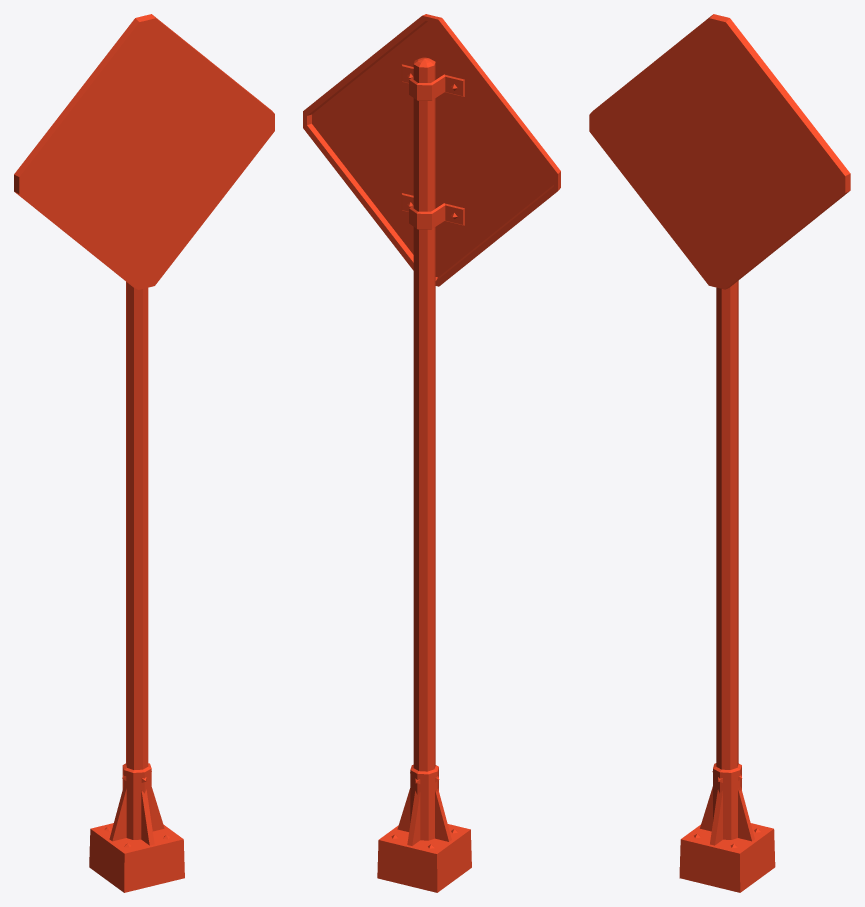
The model's file is SM_Sign_Deer_B_City.fbx.
3 renders of one model, left to right at view 1: azimuth 30°, elevation 25°; view 2: azimuth 150°, elevation 25°; view 3: azimuth 330°, elevation 25°, orthographic.
Visible parts, largest first — view 1: SM_Sign_Deer_B_City; view 2: SM_Sign_Deer_B_City; view 3: SM_Sign_Deer_B_City.
Part boxes in pixels (x1,y1,x2,y2): SM_Sign_Deer_B_City: (14, 14, 274, 892); SM_Sign_Deer_B_City: (303, 14, 560, 892); SM_Sign_Deer_B_City: (589, 14, 850, 892).
Size of the model in its own units: 0.7813 by 2.49 by 0.1839.
